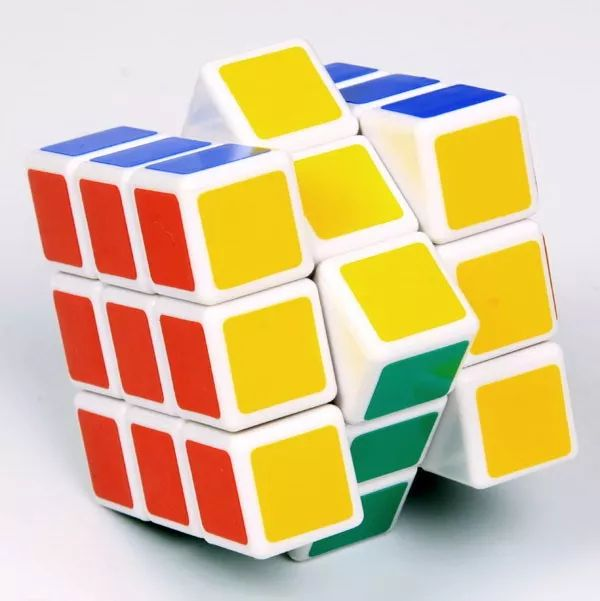cube: (11, 38, 581, 585)
